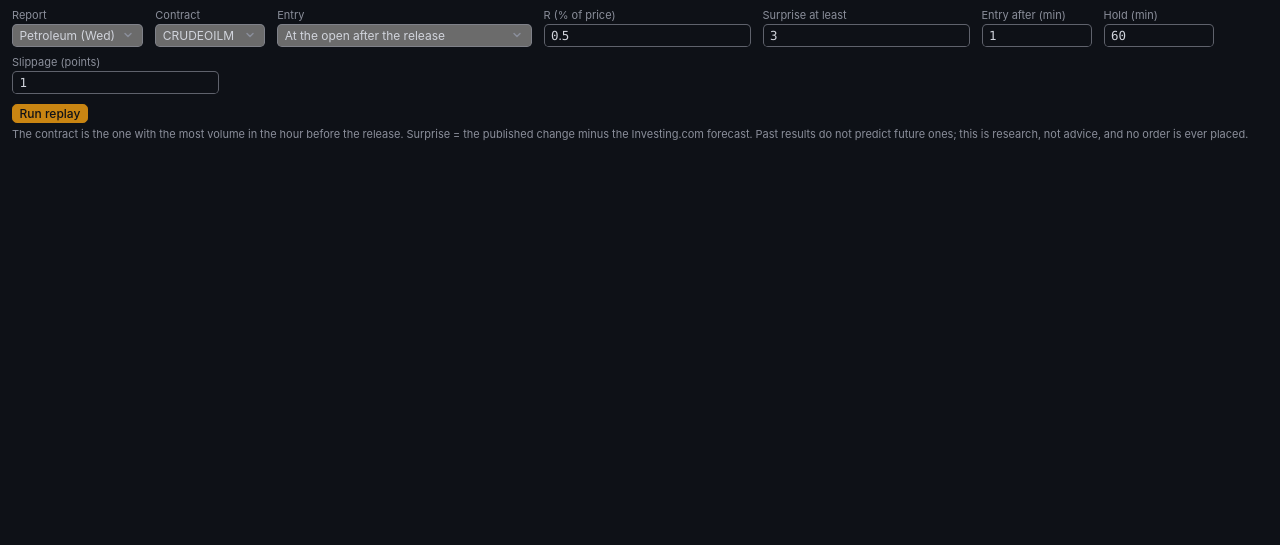
it: runs the replay with the defaults (R 0.5%) and shows the summary, the skipped releases and a row per release, newest first
The image size is (1280, 545).
Click the button "Run replay" at (50, 113), box [12,104,88,123]
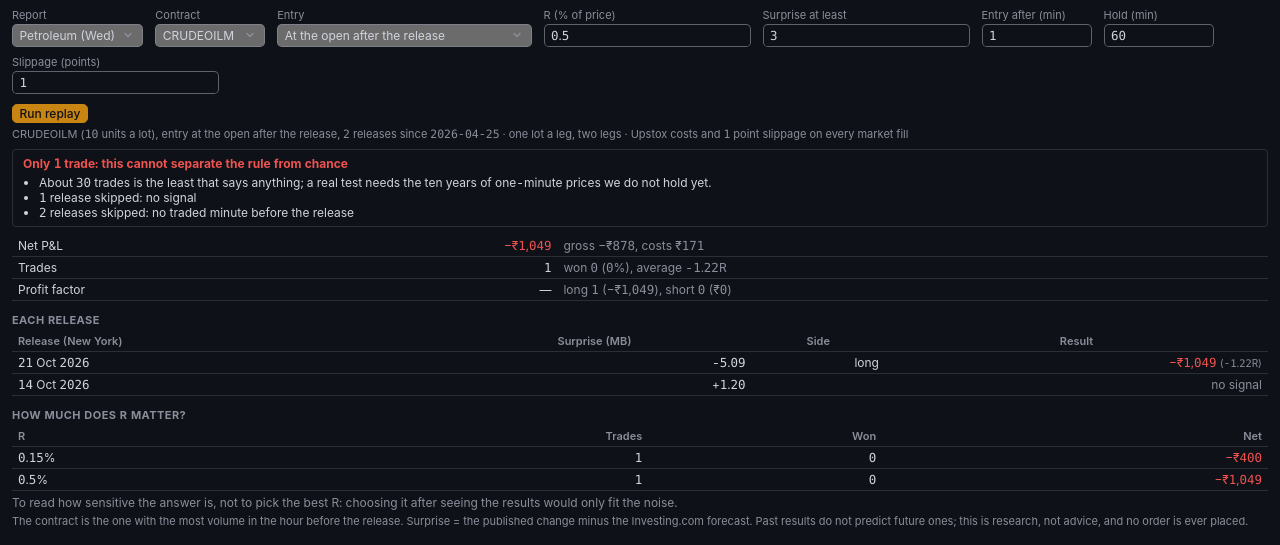
Check: the text "Only 1 trade: this cannot separate the rule from chance" is shown, box [23,156,348,171]
Check: the list item "2 releases skipped: no traded minute before the release" is shown, box [39,205,354,220]
Check: the row "21 Oct 2026 -5.09 long −₹1,049 (-1.22R)" is shown, box [12,352,1268,374]
